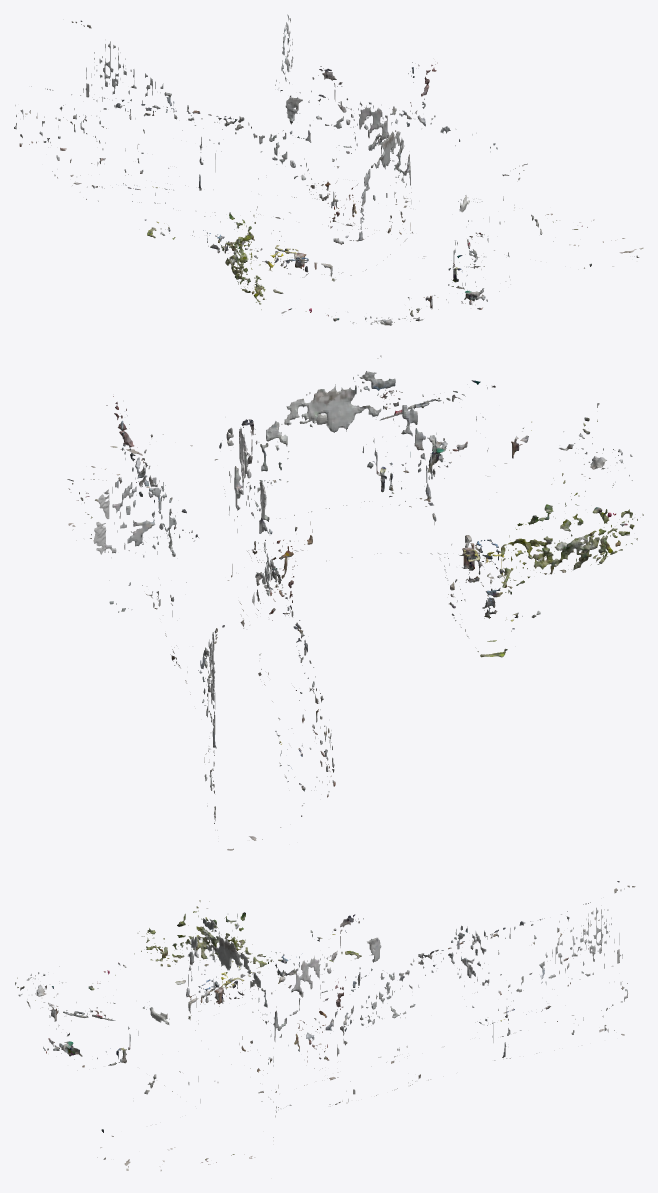
File: Haus1_remesh_textured.glb
3 views of the same model, one above another, from view 1: azimuth 30°, elevation 25°; view 2: azimuth 150°, elevation 25°; view 3: azimuth 270°, elevation 25° (orthographic). The views are drawn at different scales.
Parts seen in each view (by area): view 1: 41F1B75FDE89450EB7D0DF9F555D4BF4, F44B4EF8652B40FA834A00E5BC1B557F, FFACF14E20694573A624A41E5D2C56BD, 94884415EDB6484E9A73B57CF8F22DE2, 0DB69B68800C48AB879178082AD55EFB, 0F07505E1EFD4EDA8B1865949CC168BA, 0DEC523898D945A8A69ADAAB323052E0, 48DE8CCB423C4718B7A2072416D15C99; view 2: 41F1B75FDE89450EB7D0DF9F555D4BF4, F44B4EF8652B40FA834A00E5BC1B557F, FFACF14E20694573A624A41E5D2C56BD, 94884415EDB6484E9A73B57CF8F22DE2, 0DB69B68800C48AB879178082AD55EFB, 0DEC523898D945A8A69ADAAB323052E0, 48DE8CCB423C4718B7A2072416D15C99; view 3: 41F1B75FDE89450EB7D0DF9F555D4BF4, F44B4EF8652B40FA834A00E5BC1B557F, FFACF14E20694573A624A41E5D2C56BD, 94884415EDB6484E9A73B57CF8F22DE2, 0DB69B68800C48AB879178082AD55EFB, 0F07505E1EFD4EDA8B1865949CC168BA, 0DEC523898D945A8A69ADAAB323052E0, 48DE8CCB423C4718B7A2072416D15C99.
Boxes of the visible parts, x1,y1,x2,y2 form: 41F1B75FDE89450EB7D0DF9F555D4BF4: [353, 105, 479, 274]; F44B4EF8652B40FA834A00E5BC1B557F: [224, 14, 353, 226]; FFACF14E20694573A624A41E5D2C56BD: [225, 211, 354, 322]; 94884415EDB6484E9A73B57CF8F22DE2: [225, 86, 354, 275]; 0DB69B68800C48AB879178082AD55EFB: [356, 220, 484, 325]; 0F07505E1EFD4EDA8B1865949CC168BA: [96, 39, 175, 174]; 0DEC523898D945A8A69ADAAB323052E0: [355, 62, 481, 207]; 48DE8CCB423C4718B7A2072416D15C99: [95, 92, 226, 212]; 41F1B75FDE89450EB7D0DF9F555D4BF4: [227, 371, 431, 616]; F44B4EF8652B40FA834A00E5BC1B557F: [104, 419, 280, 708]; FFACF14E20694573A624A41E5D2C56BD: [459, 473, 643, 578]; 94884415EDB6484E9A73B57CF8F22DE2: [246, 432, 543, 620]; 0DB69B68800C48AB879178082AD55EFB: [362, 358, 615, 501]; 0DEC523898D945A8A69ADAAB323052E0: [106, 396, 166, 636]; 48DE8CCB423C4718B7A2072416D15C99: [187, 573, 317, 806]; 41F1B75FDE89450EB7D0DF9F555D4BF4: [143, 918, 325, 1094]; F44B4EF8652B40FA834A00E5BC1B557F: [325, 914, 489, 1090]; FFACF14E20694573A624A41E5D2C56BD: [59, 900, 240, 1020]; 94884415EDB6484E9A73B57CF8F22DE2: [192, 912, 329, 1075]; 0DB69B68800C48AB879178082AD55EFB: [26, 972, 138, 1067]; 0F07505E1EFD4EDA8B1865949CC168BA: [542, 905, 611, 1050]; 0DEC523898D945A8A69ADAAB323052E0: [275, 976, 381, 1110]; 48DE8CCB423C4718B7A2072416D15C99: [430, 918, 547, 1060].
Size of the model in its own units: 25.57 by 10.92 by 34.75.
